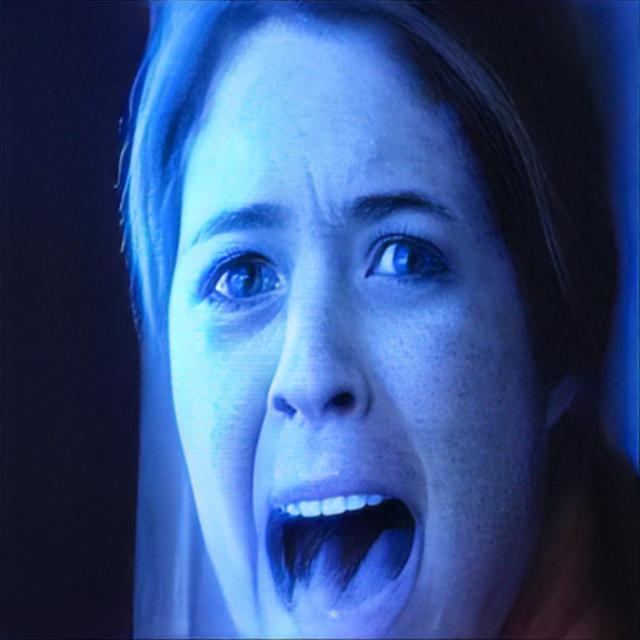fear: (166, 1, 548, 638)
